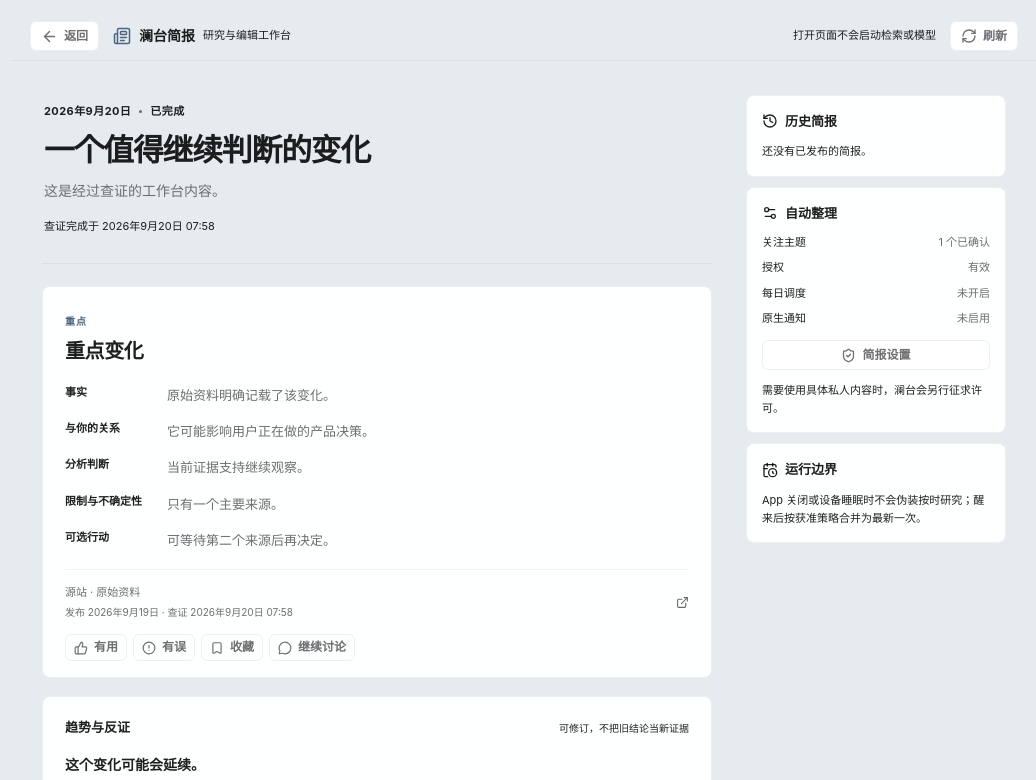
Test case: DailyBriefPage › returns through the existing in-app history entry
Click the button "返回". click: (64, 36)
box: [30,21,99,51]
(page scrolled)
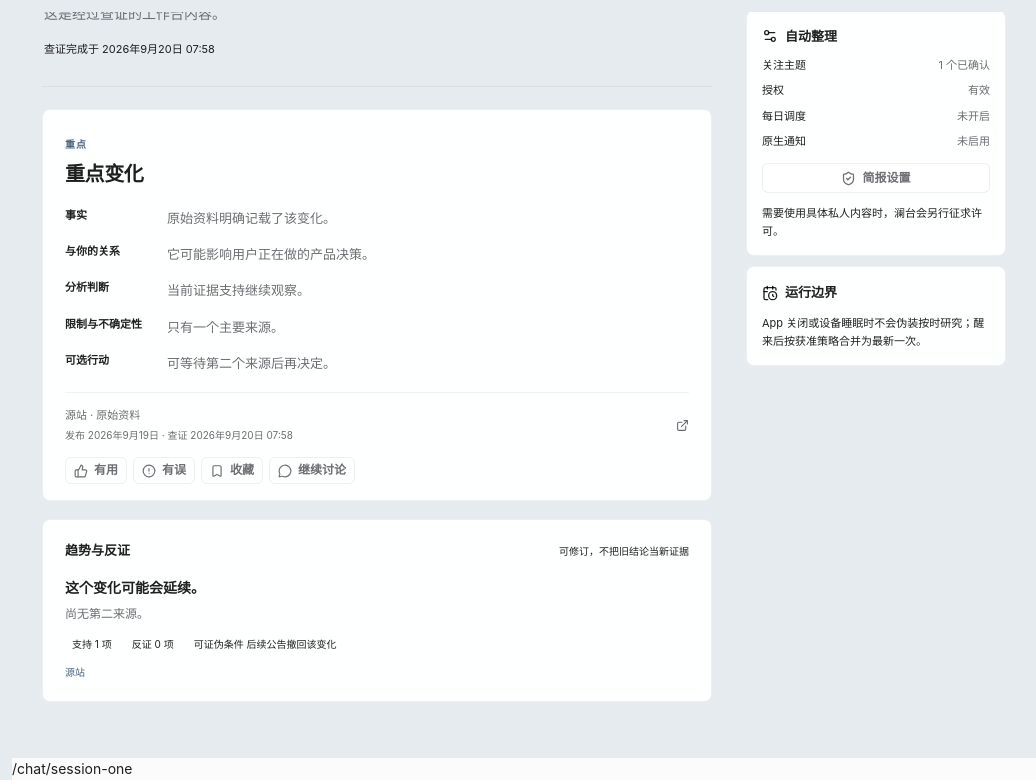
Expected: the text with test id "location" reads "/chat/session-one", [12,760,132,777]
